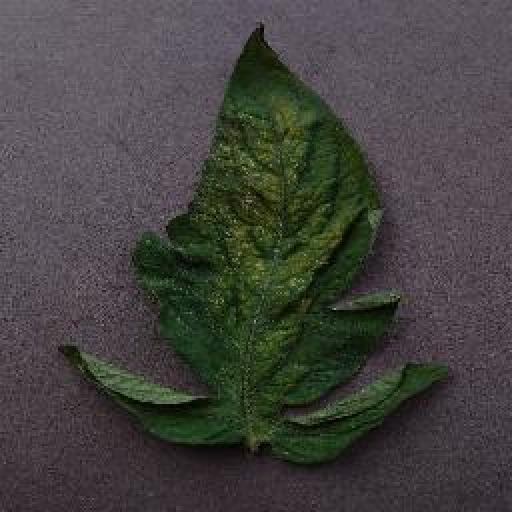disease_tomato: (64, 20, 452, 467)
